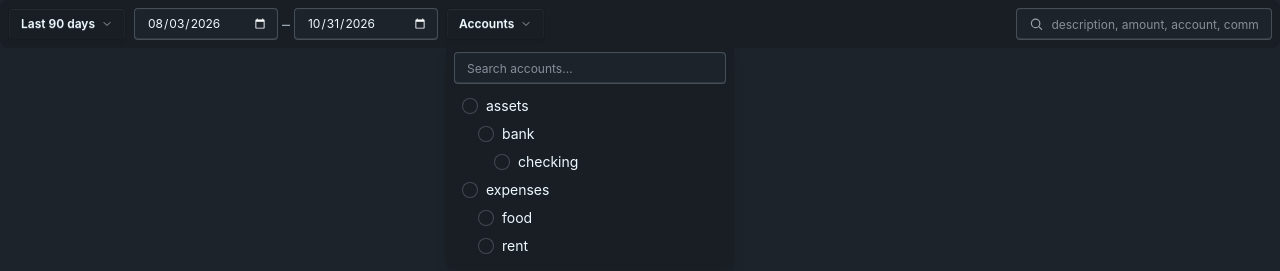
Test case: COMPONENT FilterBar account selection is debounced but never looks it › shows the chip immediately and commits to the store only after the window
Click the checkbox labelled "expenses".
click(470, 190)  # box left=462, top=182, right=478, bottom=198
Wait 200 ms
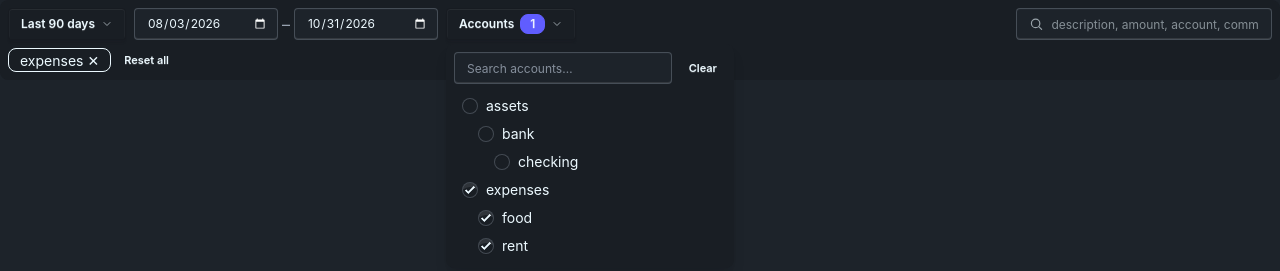
Expected: the button named "Remove account filter expenses" is shown, left=87, top=50, right=99, bottom=70
